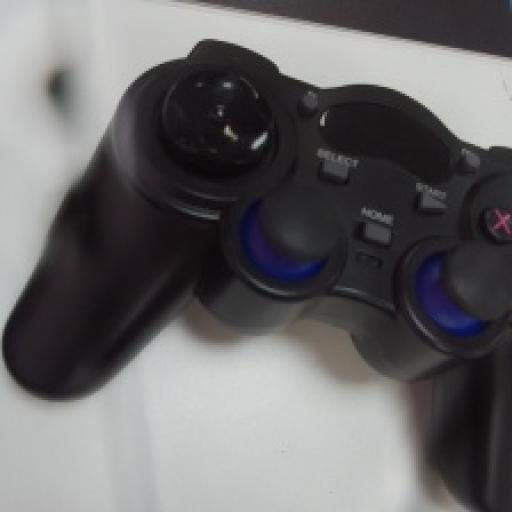game pad: (7, 41, 510, 510)
